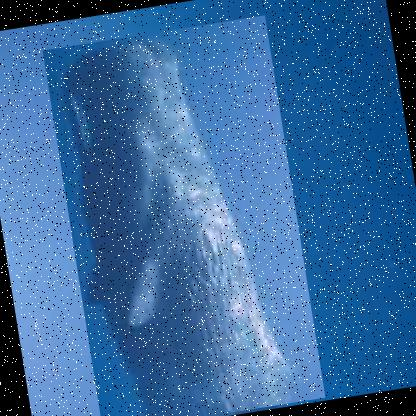sperm_whale: (41, 14, 326, 415)
